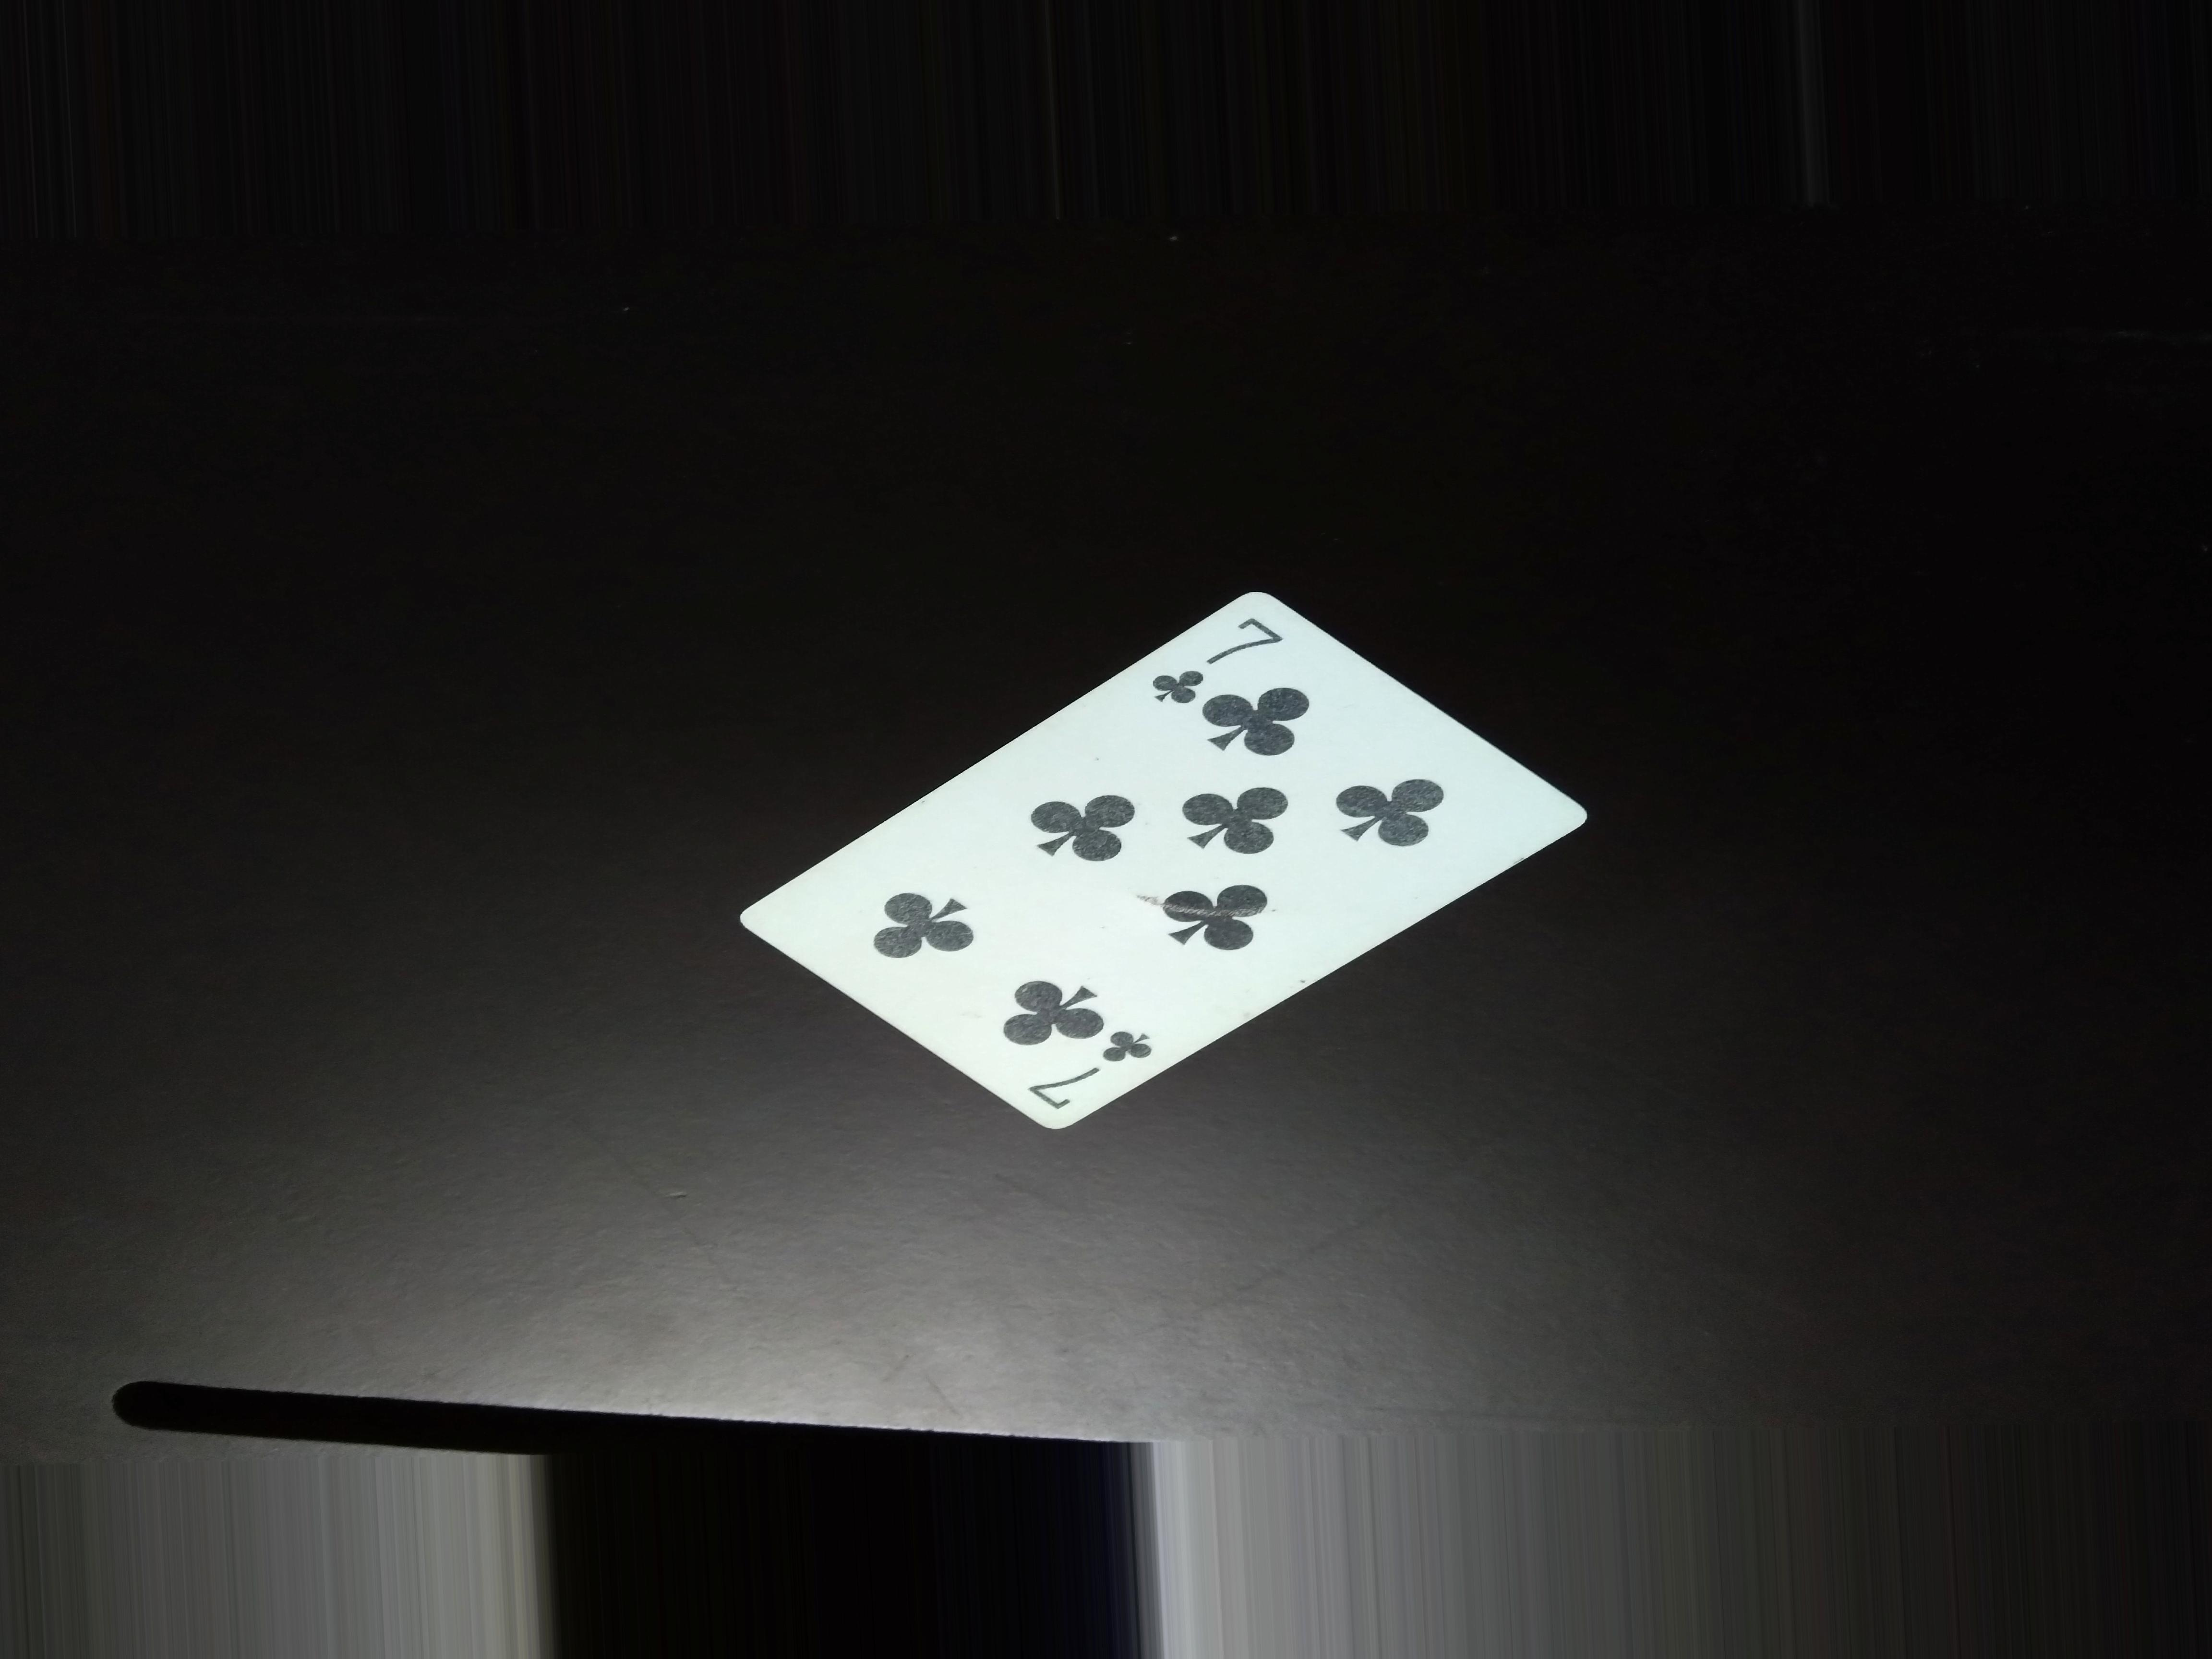7C: (1137, 598, 1287, 716)
